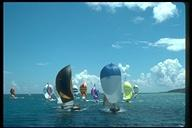sailboat: (97, 61, 125, 115), (54, 62, 83, 112), (121, 78, 134, 105), (42, 82, 54, 102), (91, 82, 100, 104), (79, 81, 88, 102), (9, 87, 20, 101)
sky: (5, 3, 184, 62)
water: (140, 94, 185, 126)
